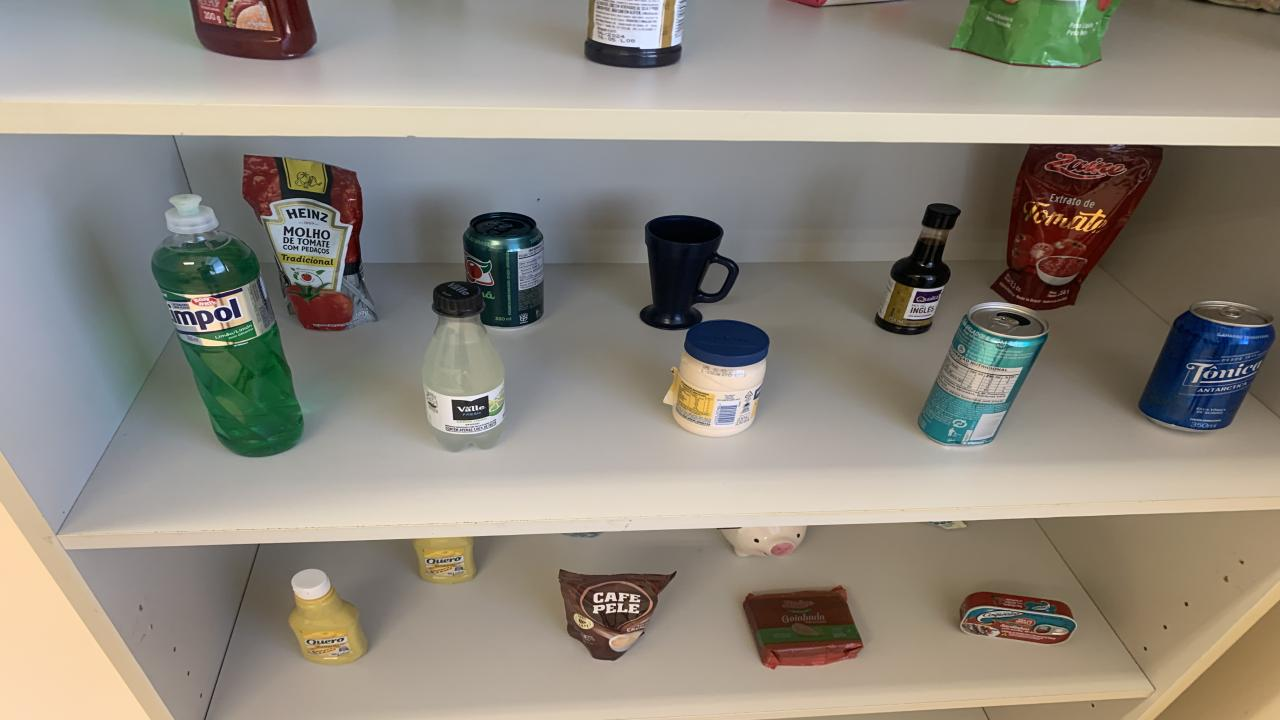Coffee-Pantry_Items: (558, 570, 675, 660)
Detergent-Cleanup_Items: (152, 195, 302, 456)
English_Sauce-Pantry_Items: (875, 204, 960, 334), (585, 0, 685, 68)
Guarana_Can-Drinks: (462, 212, 542, 328)
Guava-Snacks: (742, 587, 862, 669)
Ketchup-Pantry_Items: (190, 0, 318, 60)
Mayonnaise-Pantry_Items: (665, 319, 770, 437)
Mustard-Pantry_Items: (288, 570, 368, 664), (412, 536, 475, 583)
Pig_Safe-Miscellaneous: (720, 525, 808, 557)
Soda-Drinks: (422, 281, 505, 452)
Tea-Drinks: (918, 302, 1048, 446)
Tomato_Sauce-Pantry_Items: (992, 144, 1162, 309), (242, 156, 378, 330), (950, 0, 1120, 68)
Tonic-Drinks: (1138, 300, 1275, 431)
Tuna_Can-Pantry_Items: (960, 592, 1078, 645)
